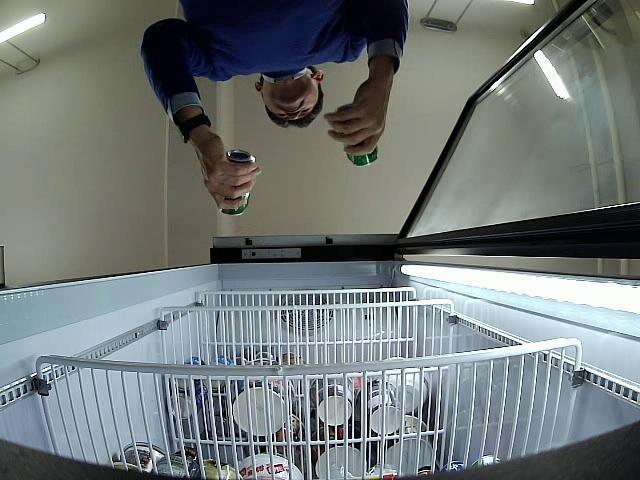12_chilsungCider: (334, 104, 378, 166), (220, 150, 256, 215)
